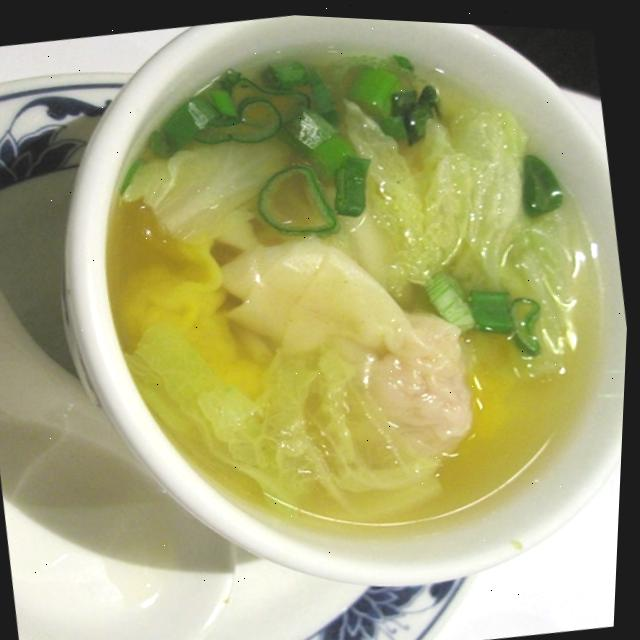汤锅炖物: (30, 2, 640, 619)
